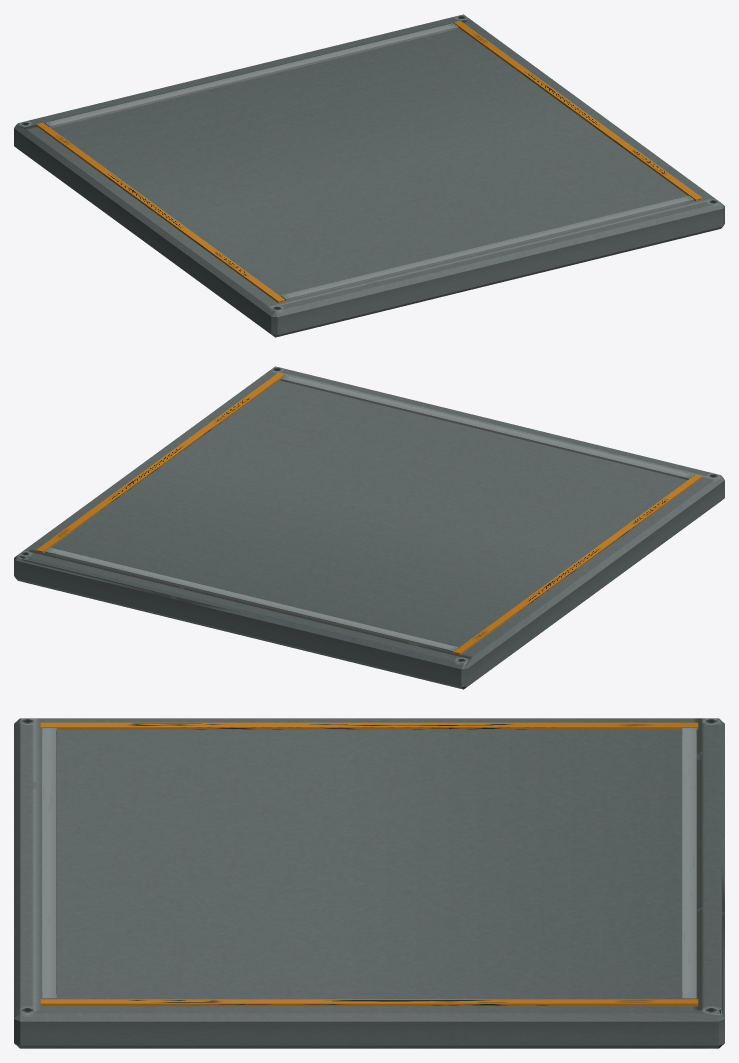
Rendered from floor_4m_LOD1.obj.
3 renders of one model, top to bottom at view 1: azimuth 30°, elevation 25°; view 2: azimuth 150°, elevation 25°; view 3: azimuth 270°, elevation 25°, orthographic. The views are drawn at different scales.
Visible parts, largest first — view 1: L02_floor_4m_LOD1; view 2: L02_floor_4m_LOD1; view 3: L02_floor_4m_LOD1.
Part boxes in pixels (<box>): L02_floor_4m_LOD1: <box>14,14,724,337</box>; L02_floor_4m_LOD1: <box>14,366,724,689</box>; L02_floor_4m_LOD1: <box>14,718,724,1048</box>.
Bounding box in the file's own units: 4 × 0.236 × 4.
1 material, 1 textured.
